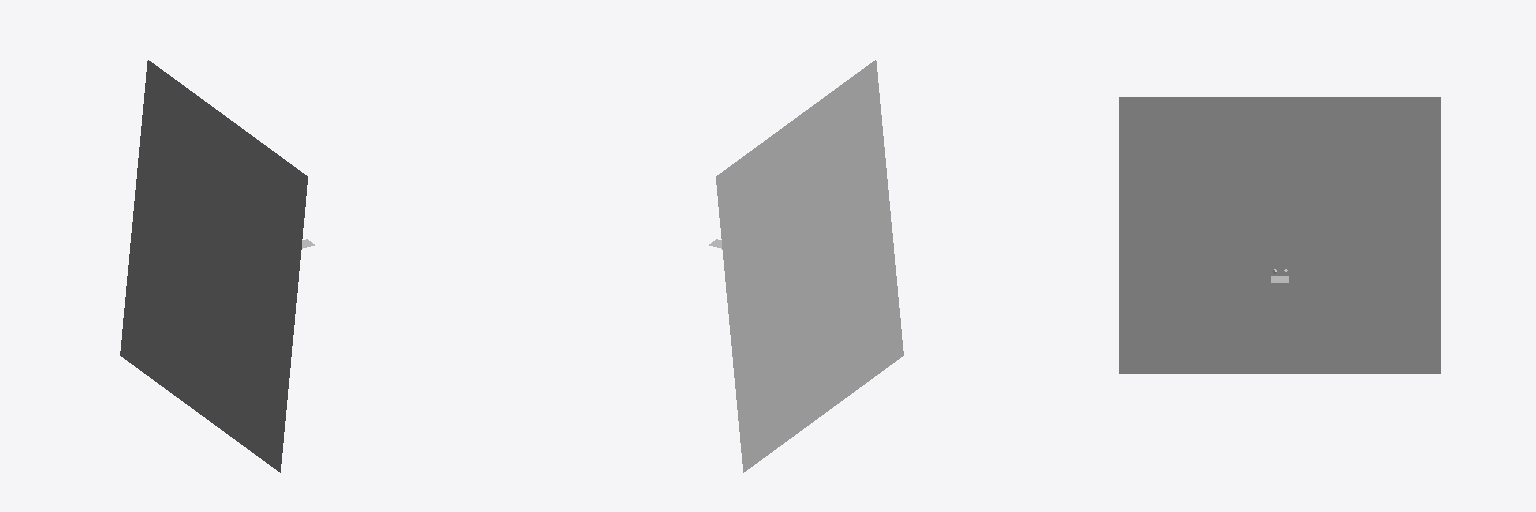
3 renders of one model, left to right at view 1: azimuth 30°, elevation 25°; view 2: azimuth 150°, elevation 25°; view 3: azimuth 270°, elevation 25°, orthographic.
Visible parts, largest first — view 1: BackGround; view 2: BackGround; view 3: BackGround.
Boxes of the visible parts, x1=… form: BackGround: x1=120, y1=60, x2=307, y2=472; BackGround: x1=716, y1=60, x2=903, y2=472; BackGround: x1=1119, y1=97, x2=1440, y2=373.
Bounding box in the file's own units: 2197 × 5462 × 5490.